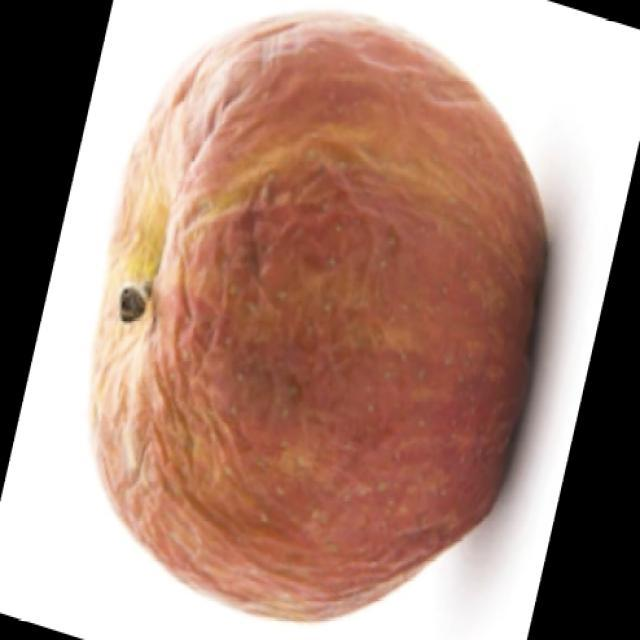Rotten: (103, 7, 532, 610)
